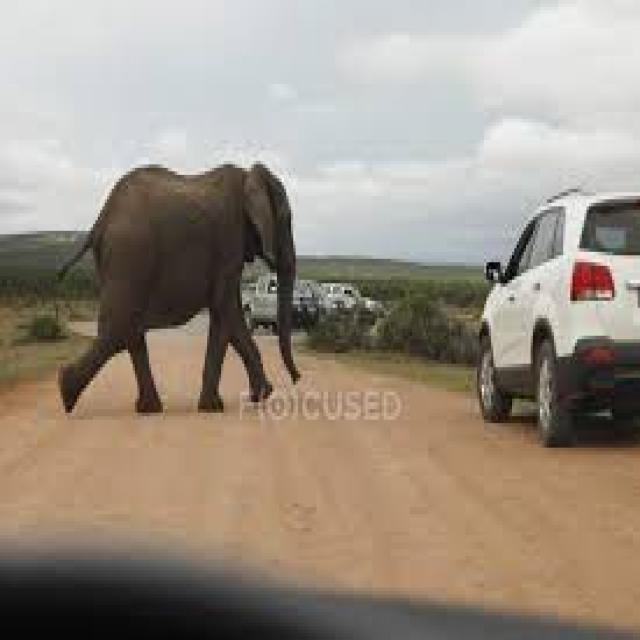Elephant: (49, 150, 310, 438)
